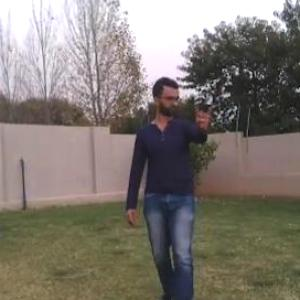takeoff-hand: (192, 95, 220, 136)
